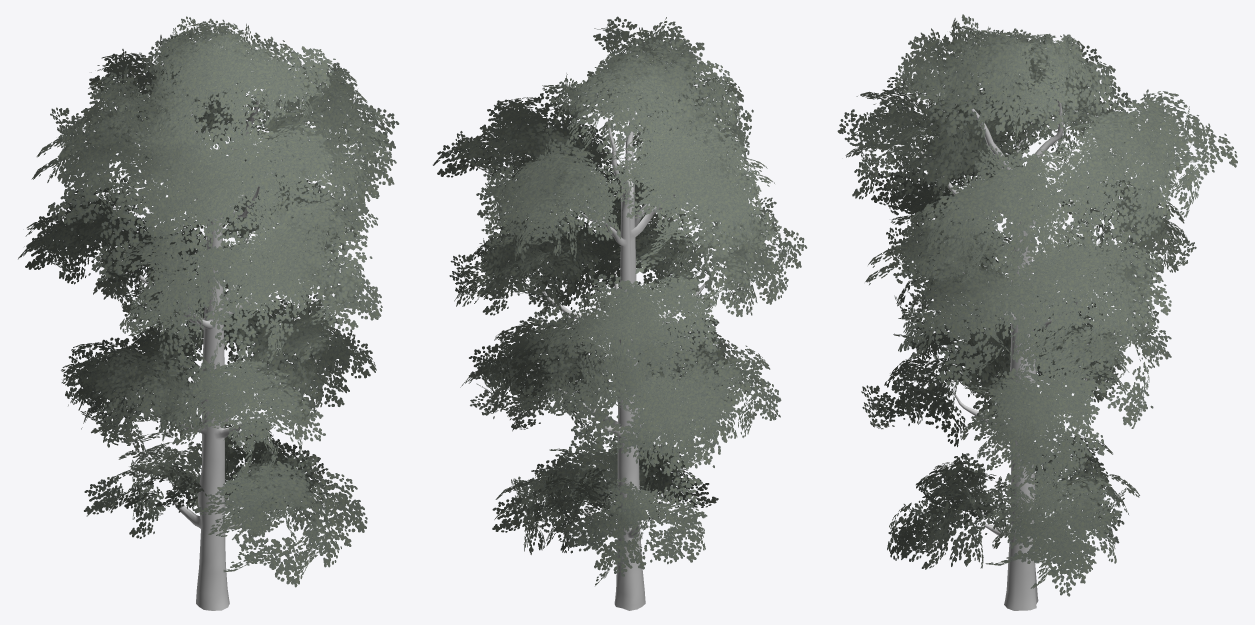
The model's file is SM_Tree_E_01.fbx.
3 renders of one model, left to right at view 1: azimuth 30°, elevation 25°; view 2: azimuth 150°, elevation 25°; view 3: azimuth 270°, elevation 25°, orthographic. The views are drawn at different scales.
Parts seen in each view (by area): view 1: SM_Tree_E_01_LOD0; view 2: SM_Tree_E_01_LOD0; view 3: SM_Tree_E_01_LOD0.
Boxes of the visible parts, x1,y1,x2,y2 form: SM_Tree_E_01_LOD0: (18, 16, 399, 610); SM_Tree_E_01_LOD0: (433, 16, 807, 610); SM_Tree_E_01_LOD0: (837, 14, 1237, 610).
Size of what is drawn, in the model's own units: 15.23 by 24.91 by 15.66.
